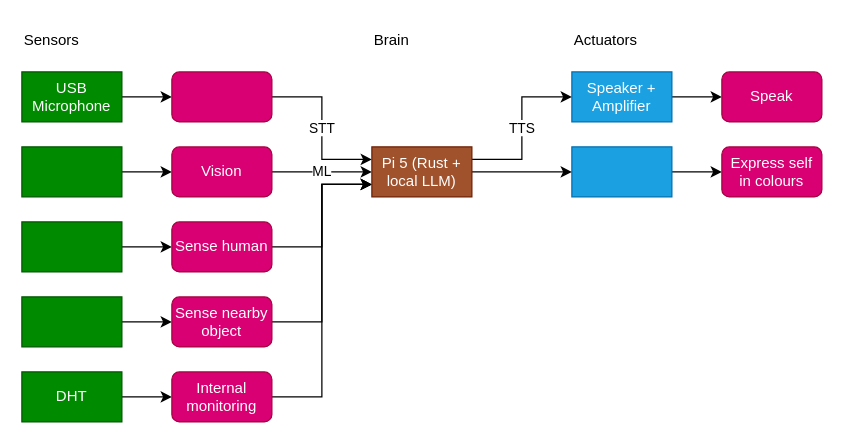
This 844x444 diagram has some shape labels left out. The shapes that lost their labels are listed below. From the top down, each one's centre as x and y in pixels, then its label:
At (221,96): "Hear human".
At (71,171): "Pi Camera".
At (621,171): "LEDs".
At (71,246): "PIR".
At (71,321): "Ultrasonic".
